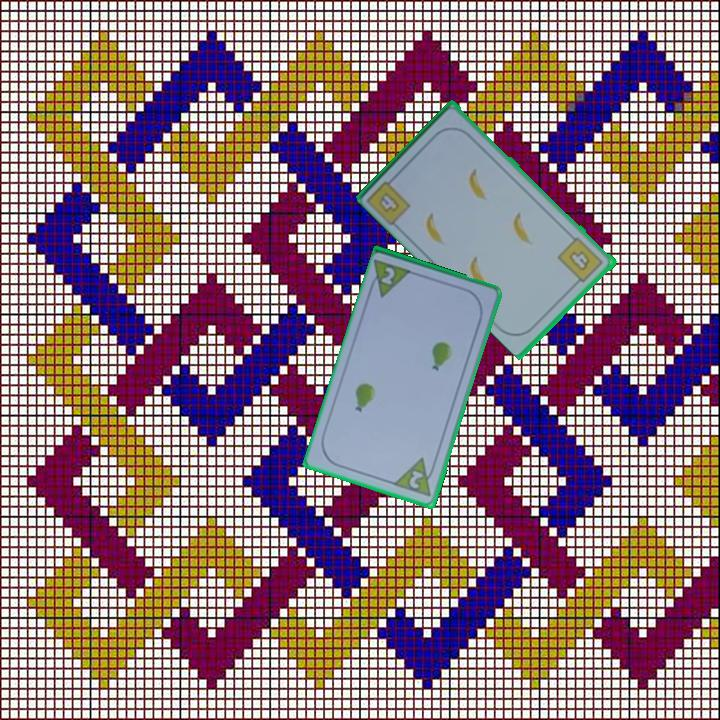2p: (406, 467, 427, 492), (377, 263, 398, 288)
4b: (364, 171, 414, 228), (554, 234, 606, 288)
